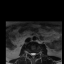CCS_normal: (32, 51, 34, 59)
LFS_stenosis: (36, 51, 37, 55)
LLS_normal: (34, 51, 36, 57)
RFS_stenosis: (28, 51, 30, 56)
RLS_normal: (30, 51, 32, 57)
